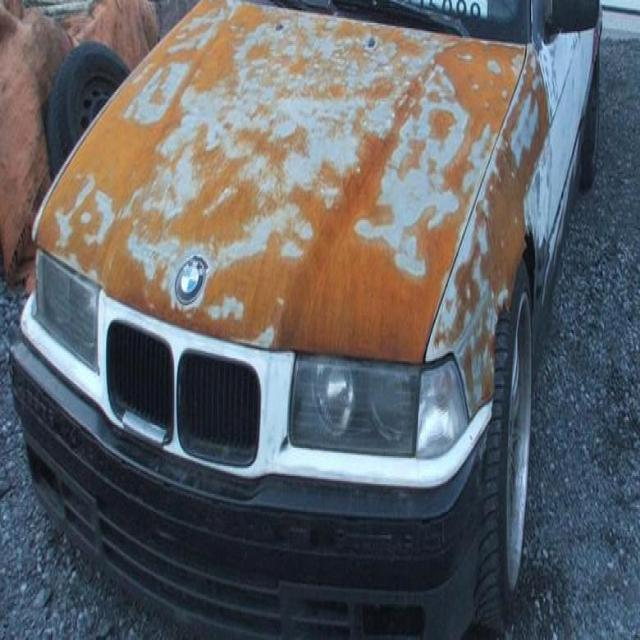corrosion: (54, 216, 281, 334), (293, 241, 422, 358), (189, 133, 264, 233), (443, 37, 512, 137), (485, 163, 528, 290), (92, 126, 155, 196), (194, 1, 244, 86), (343, 22, 416, 74), (346, 124, 387, 215), (430, 208, 466, 265), (293, 175, 328, 224), (536, 93, 550, 137), (249, 41, 270, 58)
